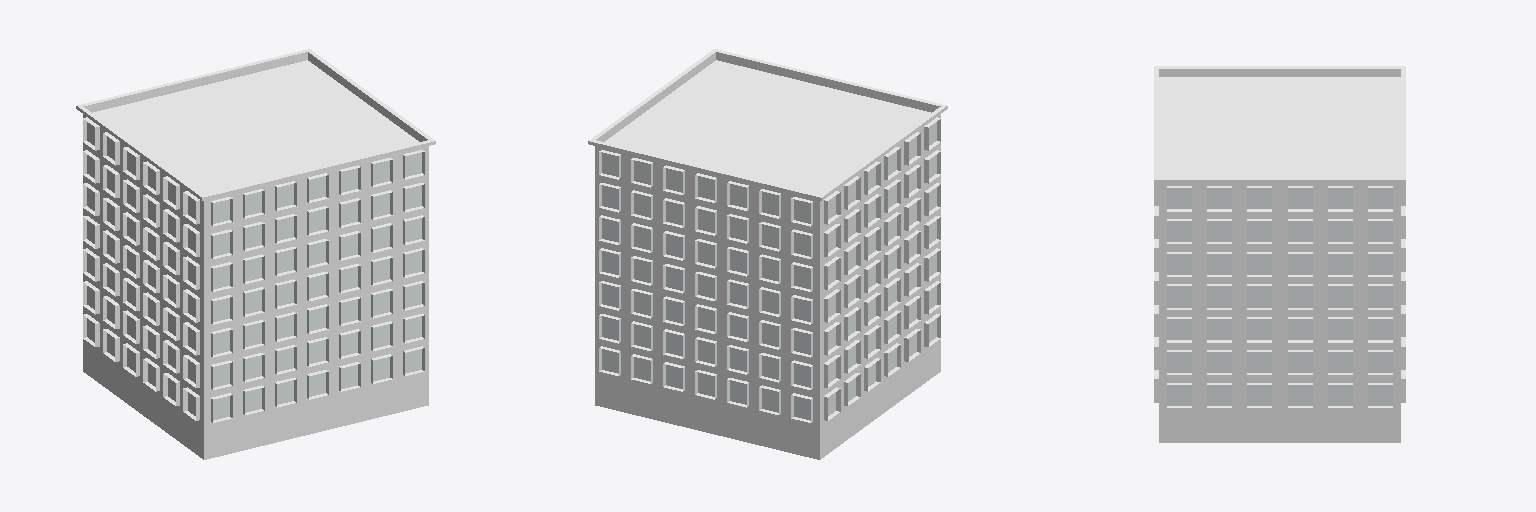
Rendered from 蓝色大厦.obj.
3 renders of one model, left to right at view 1: azimuth 30°, elevation 25°; view 2: azimuth 150°, elevation 25°; view 3: azimuth 270°, elevation 25°, orthographic.
Parts seen in each view (by area): view 1: 左一大厦.1; view 2: 左一大厦.1; view 3: 左一大厦.1.
Boxes of the visible parts, x1,y1,x2,y2 form: 左一大厦.1: [76, 49, 435, 459]; 左一大厦.1: [588, 49, 947, 459]; 左一大厦.1: [1154, 66, 1405, 442].
Bounding box in the file's own units: 2104 × 2287 × 1970.